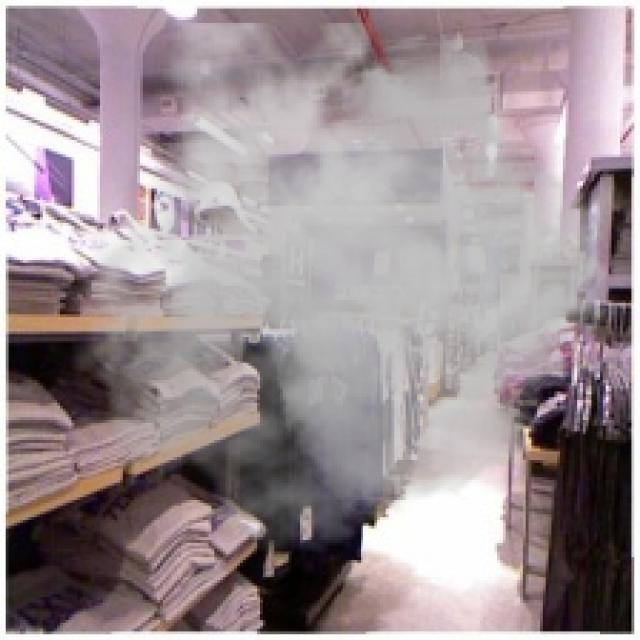Smoke: (69, 22, 626, 554)
